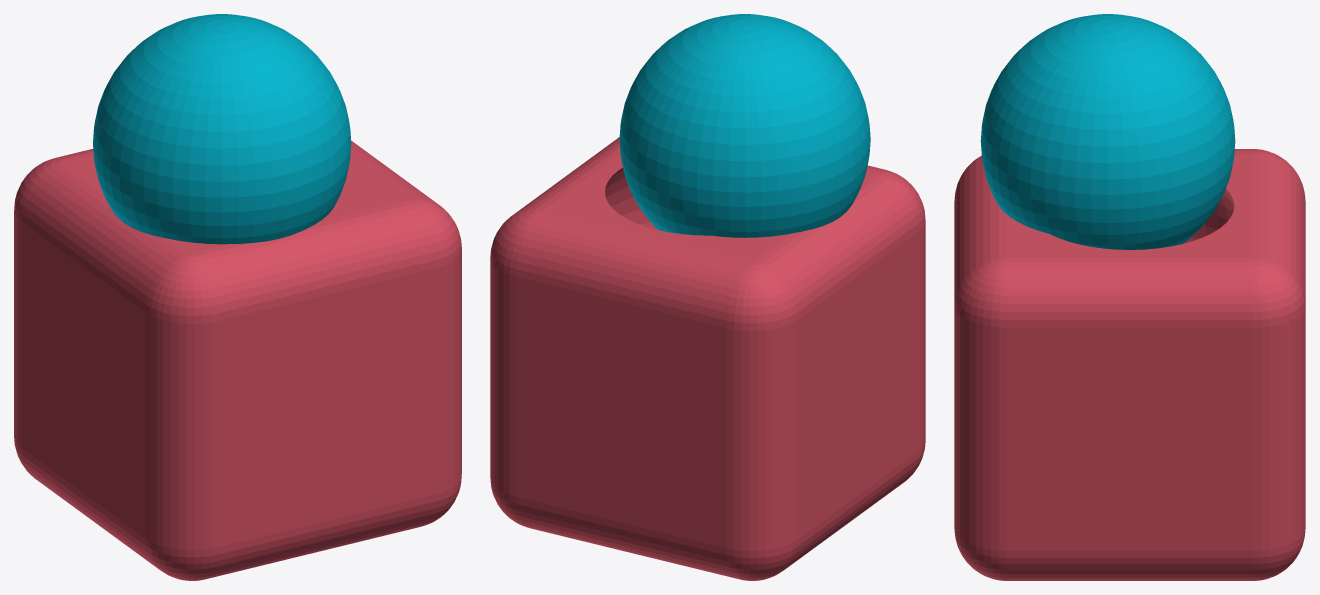
The model's file is Maia. H.glb.
The picture shows the model from 3 angles, left to right: view 1: azimuth 30°, elevation 25°; view 2: azimuth 150°, elevation 25°; view 3: azimuth 270°, elevation 25°; orthographic projection. The views are drawn at different scales.
Parts seen in each view (by area): view 1: Mesh_Mesh_head_geo.001_lambert2SG.001; view 2: Mesh_Mesh_head_geo.001_lambert2SG.001; view 3: Mesh_Mesh_head_geo.001_lambert2SG.001.
Part boxes in pixels (bbox=[...]): Mesh_Mesh_head_geo.001_lambert2SG.001: bbox=[14, 14, 461, 580]; Mesh_Mesh_head_geo.001_lambert2SG.001: bbox=[490, 14, 925, 580]; Mesh_Mesh_head_geo.001_lambert2SG.001: bbox=[954, 14, 1305, 580].
Bounding box in the file's own units: 0.04 × 0.061 × 0.04.
